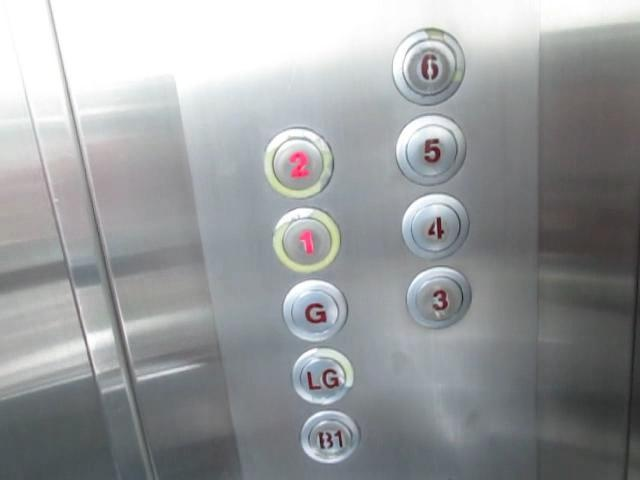1: (270, 205, 341, 276)
2: (260, 125, 335, 200)
3: (404, 264, 472, 329)
4: (400, 191, 469, 260)
5: (392, 112, 468, 187)
6: (392, 22, 467, 108)
B1: (299, 408, 361, 465)
G: (279, 277, 347, 344)
LG: (288, 344, 355, 406)
